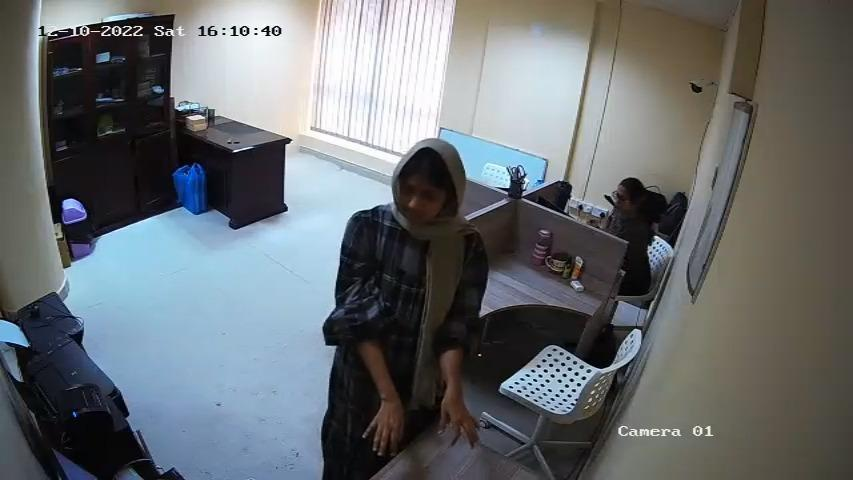no_apron: (436, 385, 487, 455), (359, 396, 408, 462)
no_gloves: (390, 131, 471, 192), (614, 174, 664, 201)
no_hairnet: (380, 192, 452, 238), (606, 189, 637, 225)
